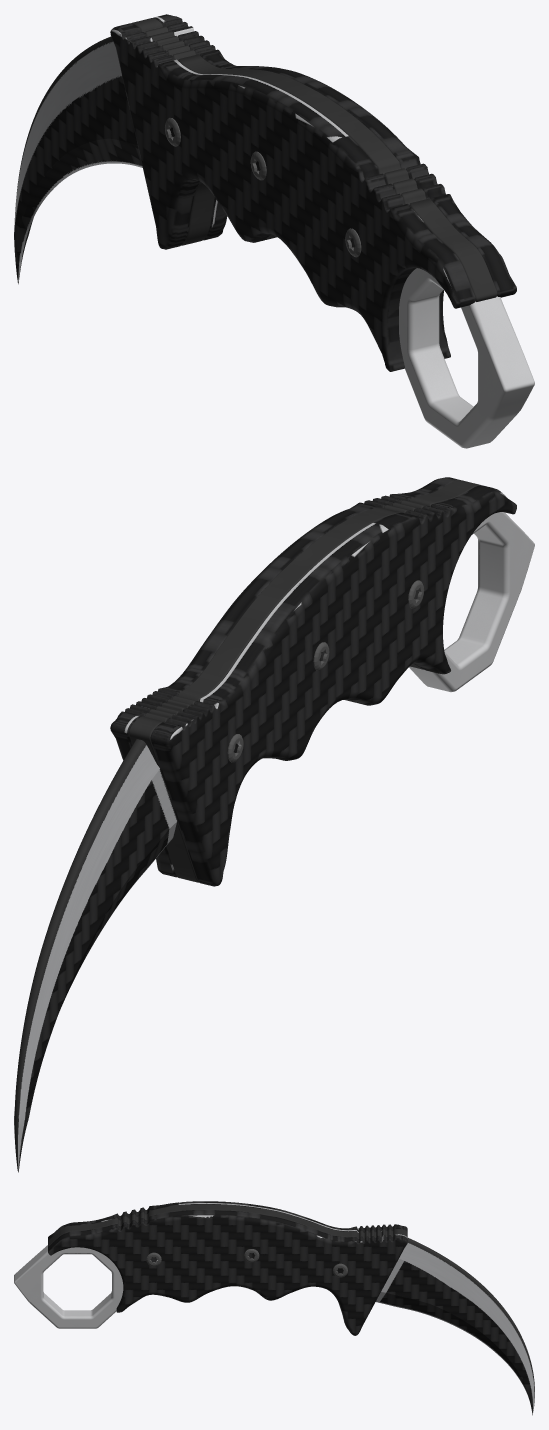
The model's file is Karambit.glb.
3 renders of one model, top to bottom at view 1: azimuth 30°, elevation 25°; view 2: azimuth 150°, elevation 25°; view 3: azimuth 270°, elevation 25°, orthographic. The views are drawn at different scales.
Visible parts, largest first — view 1: KR_Handle_Mesh, KR_Handle_Mesh_Blade, KR_Handle_Mesh_Ring; view 2: KR_Handle_Mesh, KR_Handle_Mesh_Blade, KR_Handle_Mesh_Ring; view 3: KR_Handle_Mesh, KR_Handle_Mesh_Blade, KR_Handle_Mesh_Ring.
Part boxes in pixels (x1,y1,x2,y2): KR_Handle_Mesh: [110, 14, 516, 371]; KR_Handle_Mesh_Blade: [14, 18, 497, 301]; KR_Handle_Mesh_Ring: [399, 268, 534, 448]; KR_Handle_Mesh: [110, 477, 516, 886]; KR_Handle_Mesh_Blade: [14, 480, 480, 1172]; KR_Handle_Mesh_Ring: [409, 512, 534, 692]; KR_Handle_Mesh: [48, 1201, 407, 1335]; KR_Handle_Mesh_Blade: [48, 1204, 534, 1415]; KR_Handle_Mesh_Ring: [14, 1245, 123, 1328].
Bounding box in the file's own units: 0.1437 × 0.8295 × 1.88.
Materials: 2 (2 with a texture image).
